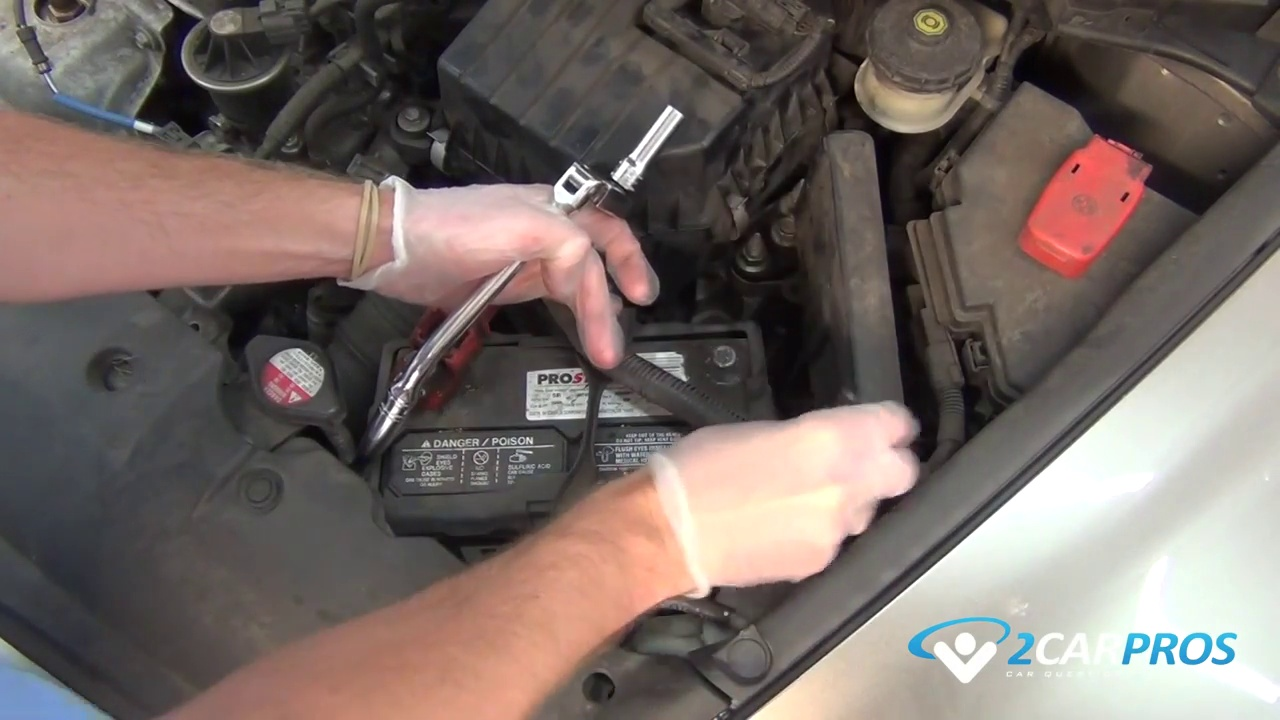battery: (391, 318, 770, 521)
neg_disconnected: (682, 318, 773, 408)
pos_touched: (377, 222, 507, 420)
